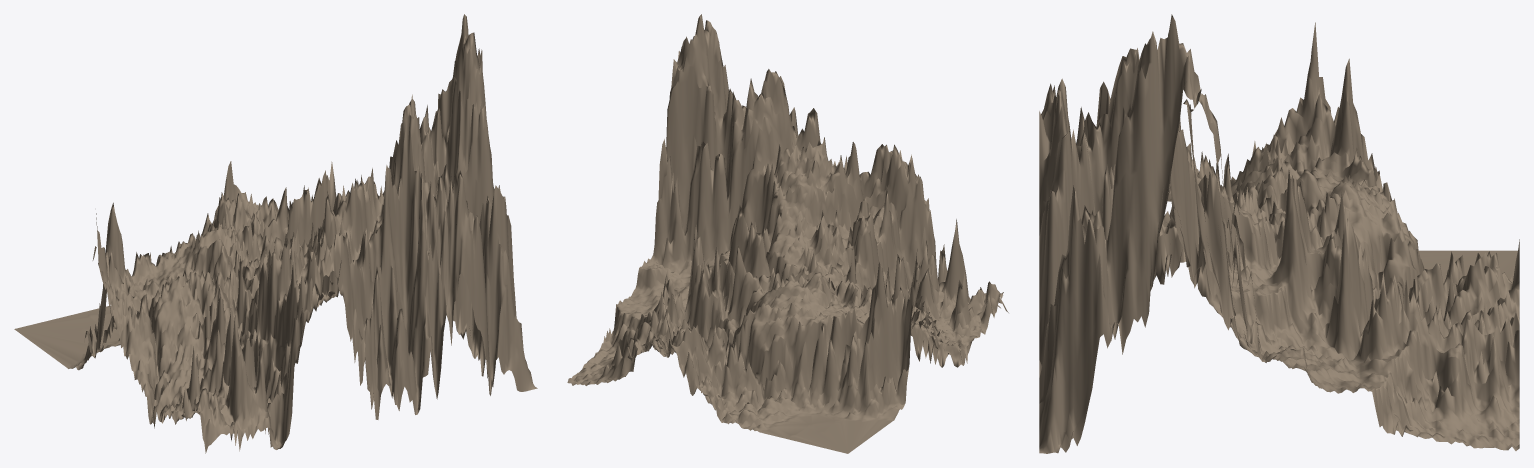
Rendered from chocolate-hills-hi.glb.
The picture shows the model from 3 angles, left to right: view 1: azimuth 30°, elevation 25°; view 2: azimuth 150°, elevation 25°; view 3: azimuth 270°, elevation 25°; orthographic projection. The views are drawn at different scales.
Size of the model in its own units: 2800 by 2758 by 2800.
